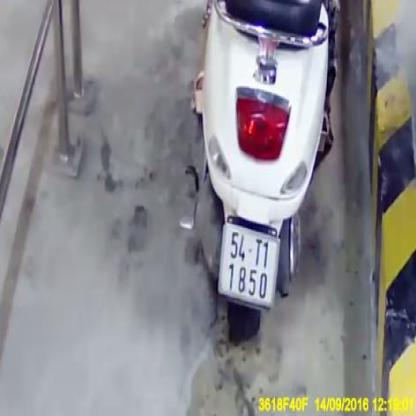Xemay: (218, 223, 281, 308)
